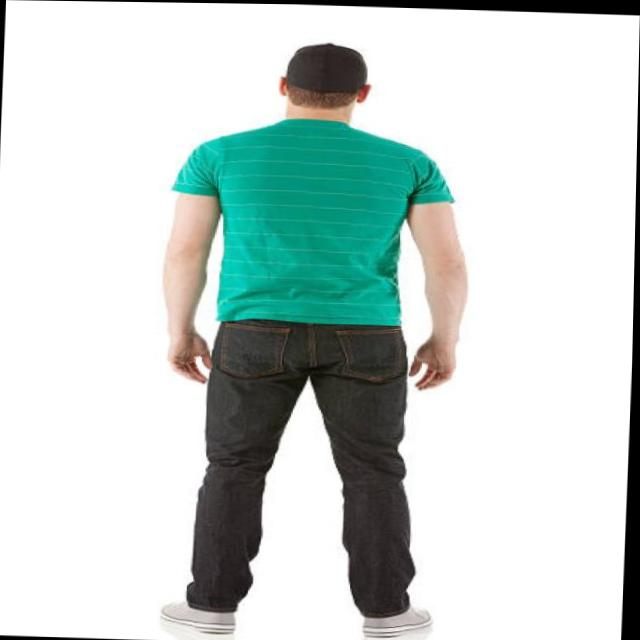no helmet: (236, 31, 377, 143)
